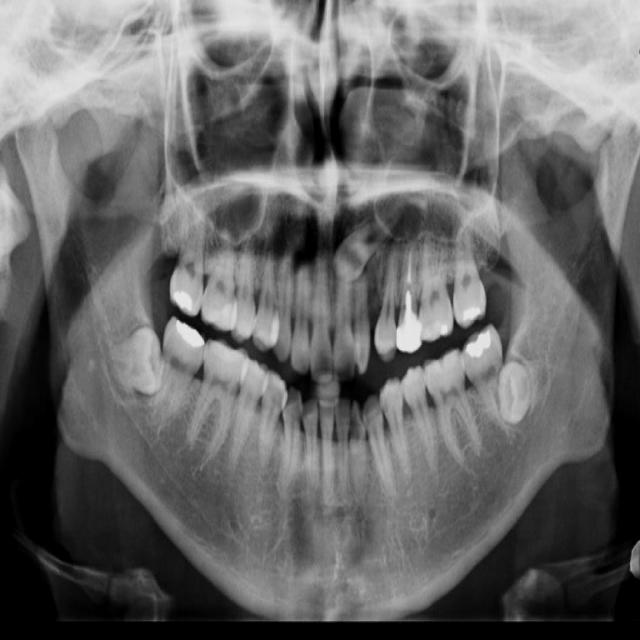Crown: (395, 322, 422, 353)
Filling: (202, 300, 233, 331), (174, 317, 203, 349), (468, 329, 493, 359), (427, 350, 456, 374), (173, 286, 194, 309), (461, 305, 483, 324), (436, 319, 452, 339)
Root Canal Treatment: (407, 246, 411, 286)
impacted tooth: (333, 185, 425, 279), (98, 325, 161, 398), (500, 357, 550, 418)
